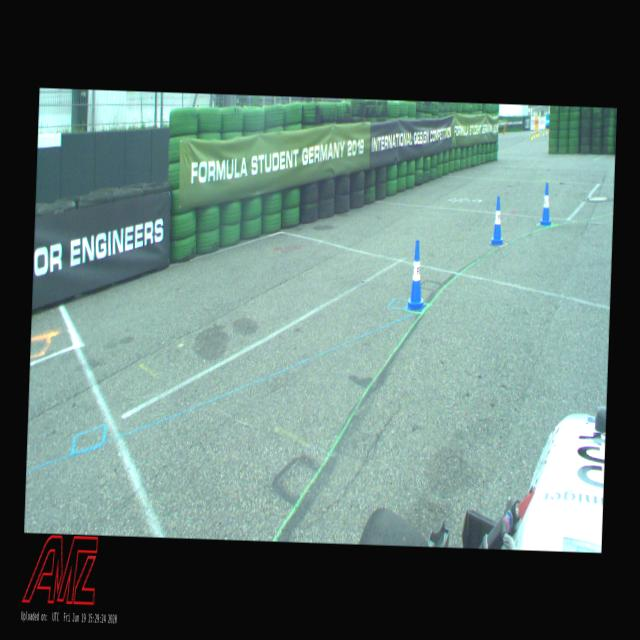blue_cone: (406, 239, 426, 311), (490, 196, 504, 246), (540, 182, 552, 225)
yellow_cone: (532, 130, 534, 138), (537, 128, 539, 136), (530, 132, 532, 139), (542, 128, 544, 134)
